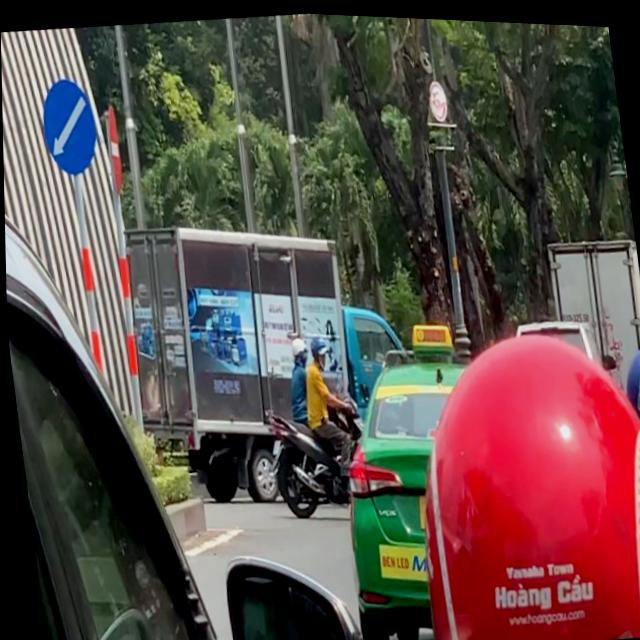Vong chuong ngai vat sang trai: (37, 74, 101, 178)
